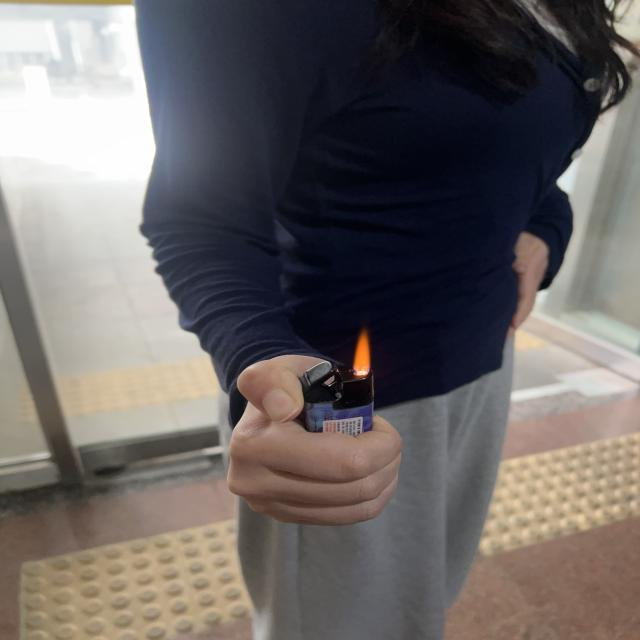fire: (351, 332, 374, 372)
